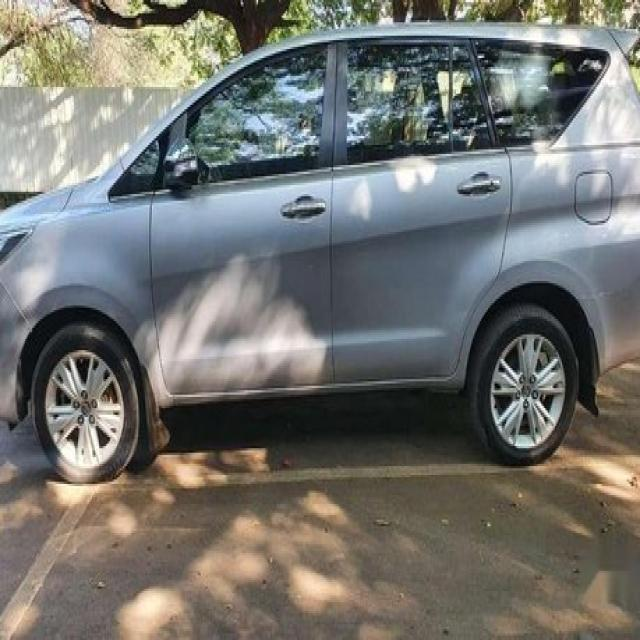light_vehicle: (1, 20, 639, 486)
